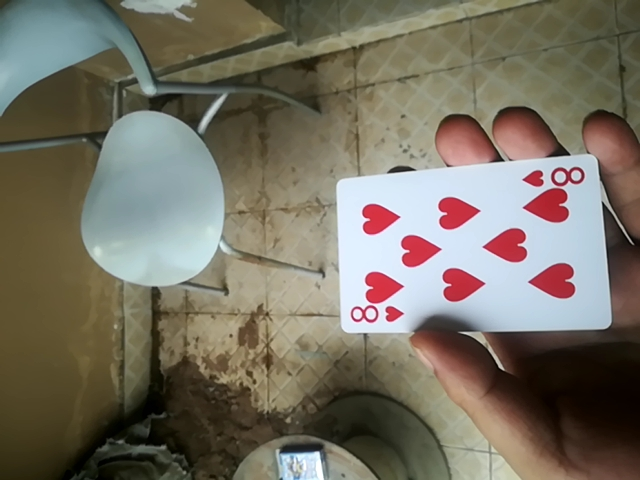hx 8: (328, 146, 608, 338)
